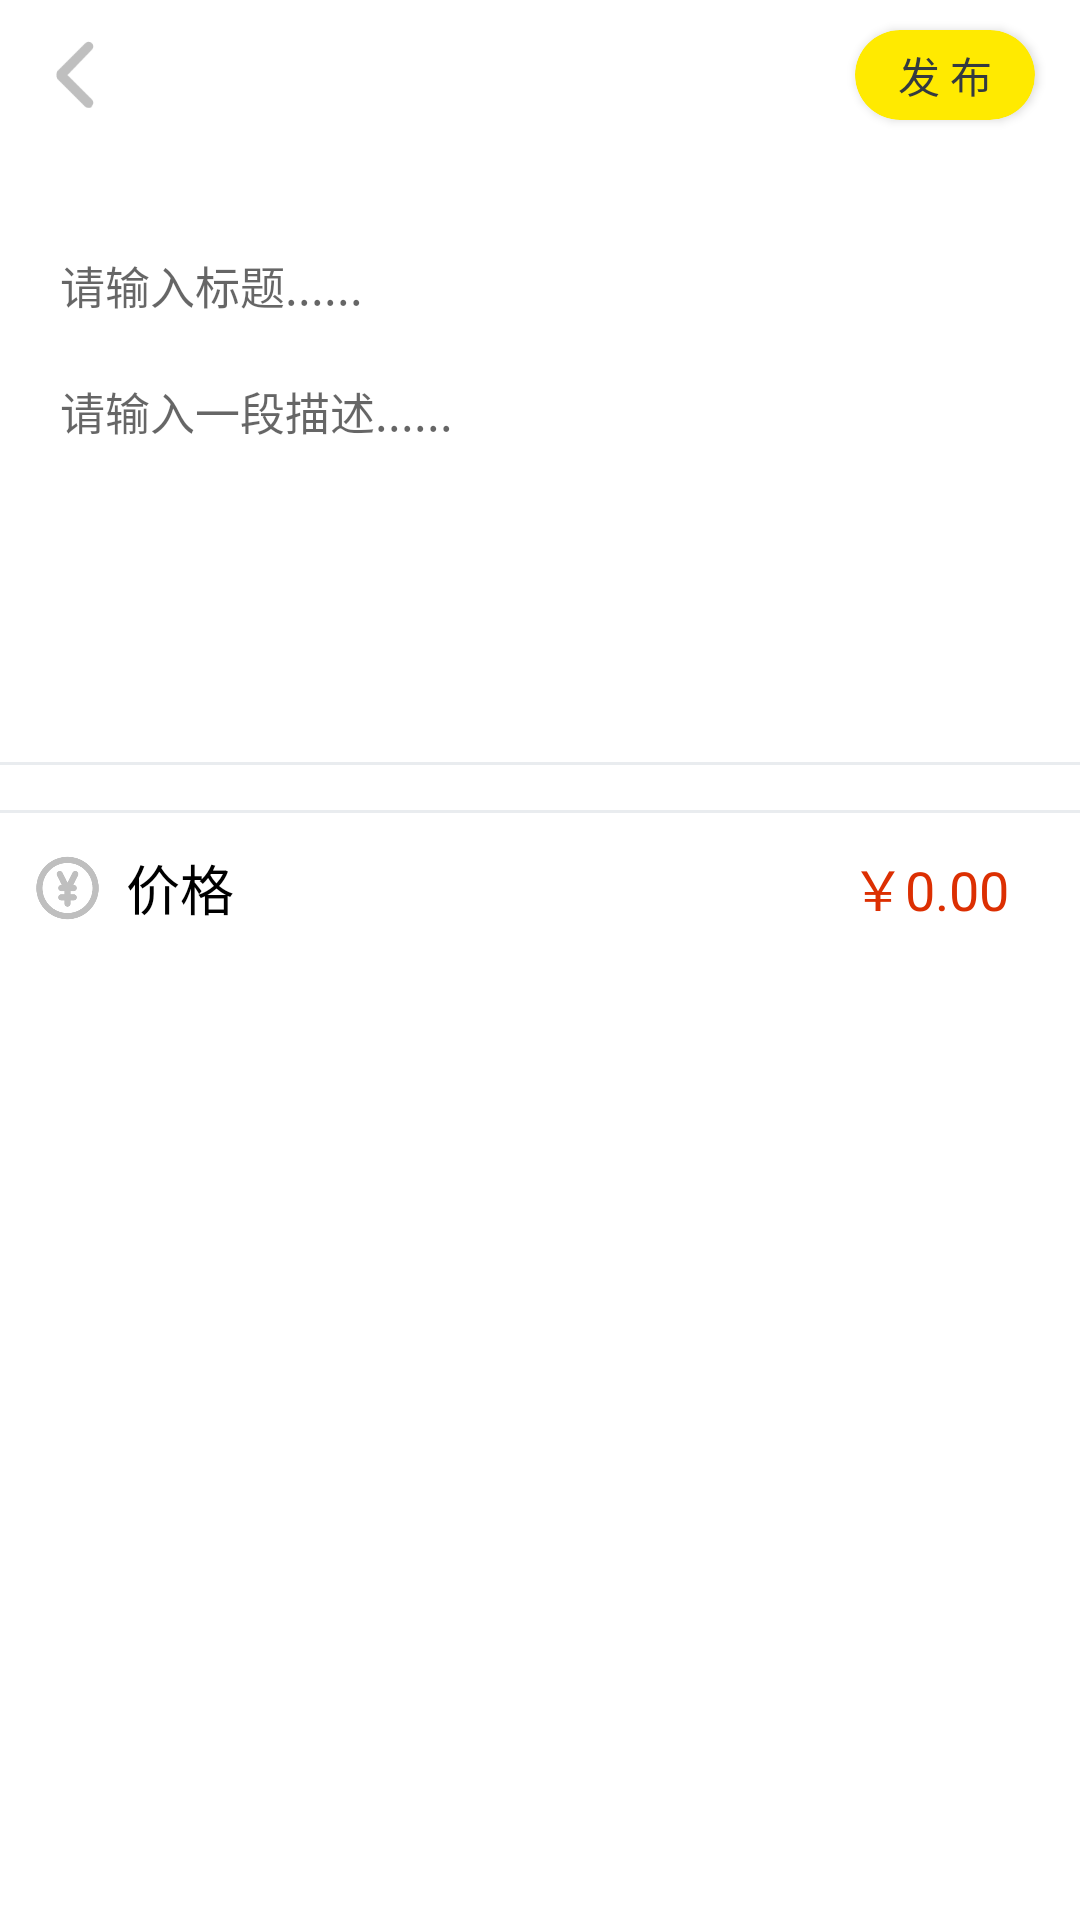

Screen size 1080×1920. Icon name, then its center in pixels as point (x, y):
back: point (74, 75)
